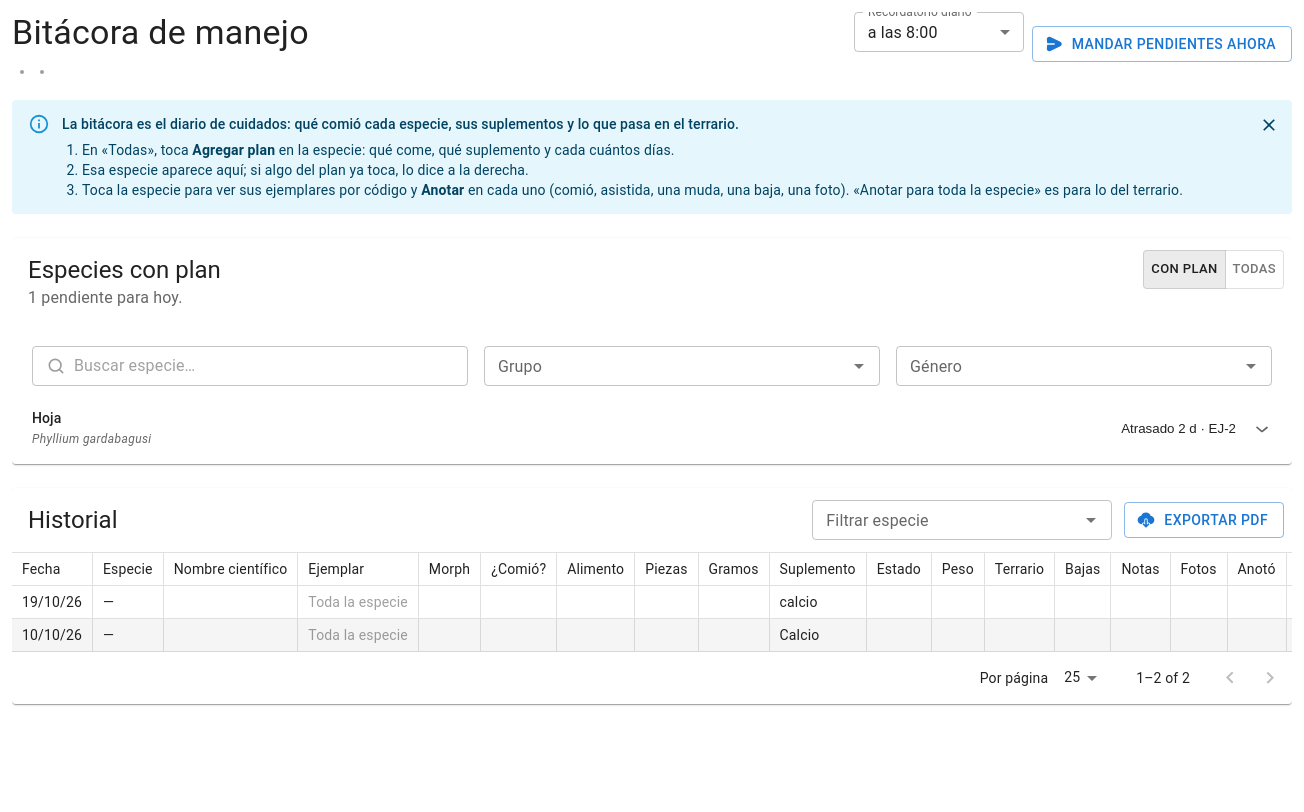
Scenario: HusbandryLogView › el suplemento se sigue por ejemplar: cuenta el de toda la especie o el suyo
This screenshot has width=1304, height=812.
arriba dice a quién le falta
Click the button "Hoja Phyllium gardabagusi Atrasado 2 d · EJ-2" at (92, 439), box [12,394,1292,464]
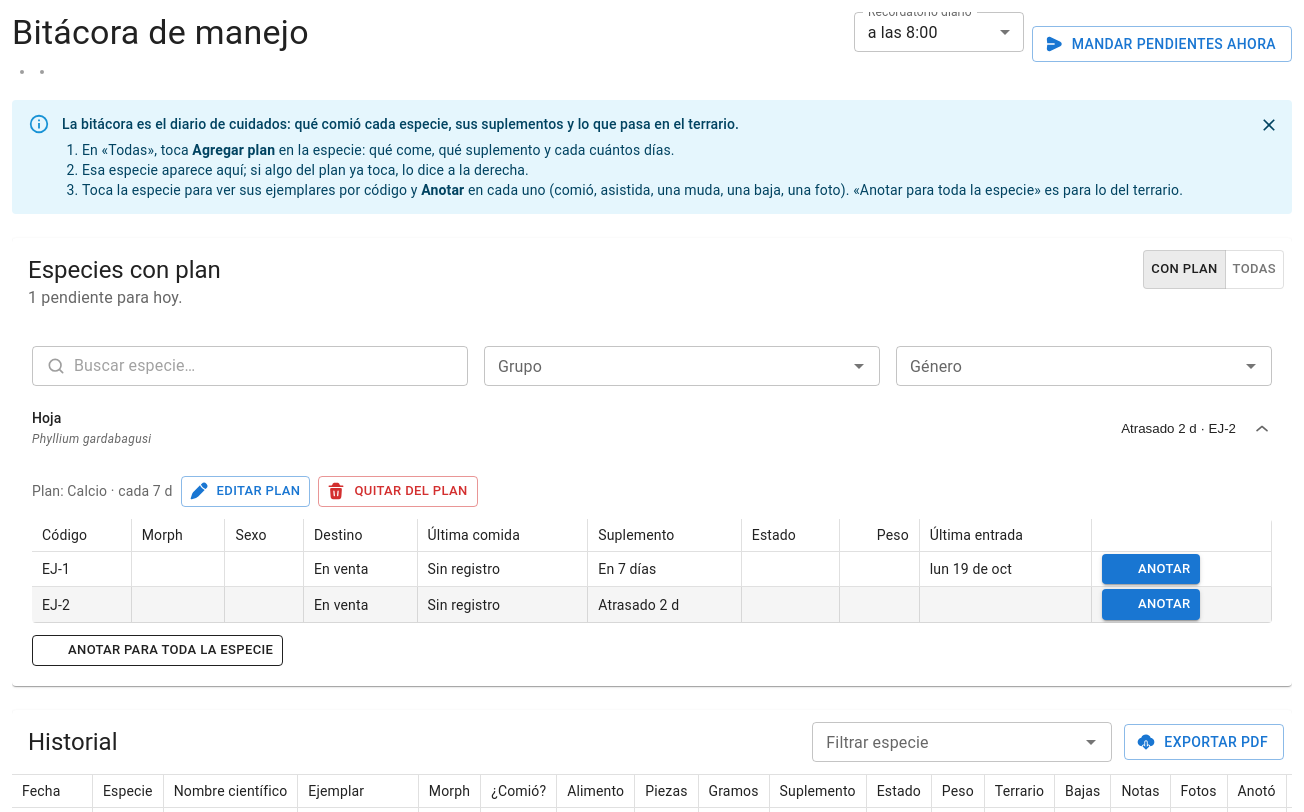
Expected: the text "EJ-1" shows "En 7 días", [598,561,656,577]
Expected: the text "EJ-2" shows "Atrasado 2 d", [598,597,679,613]
